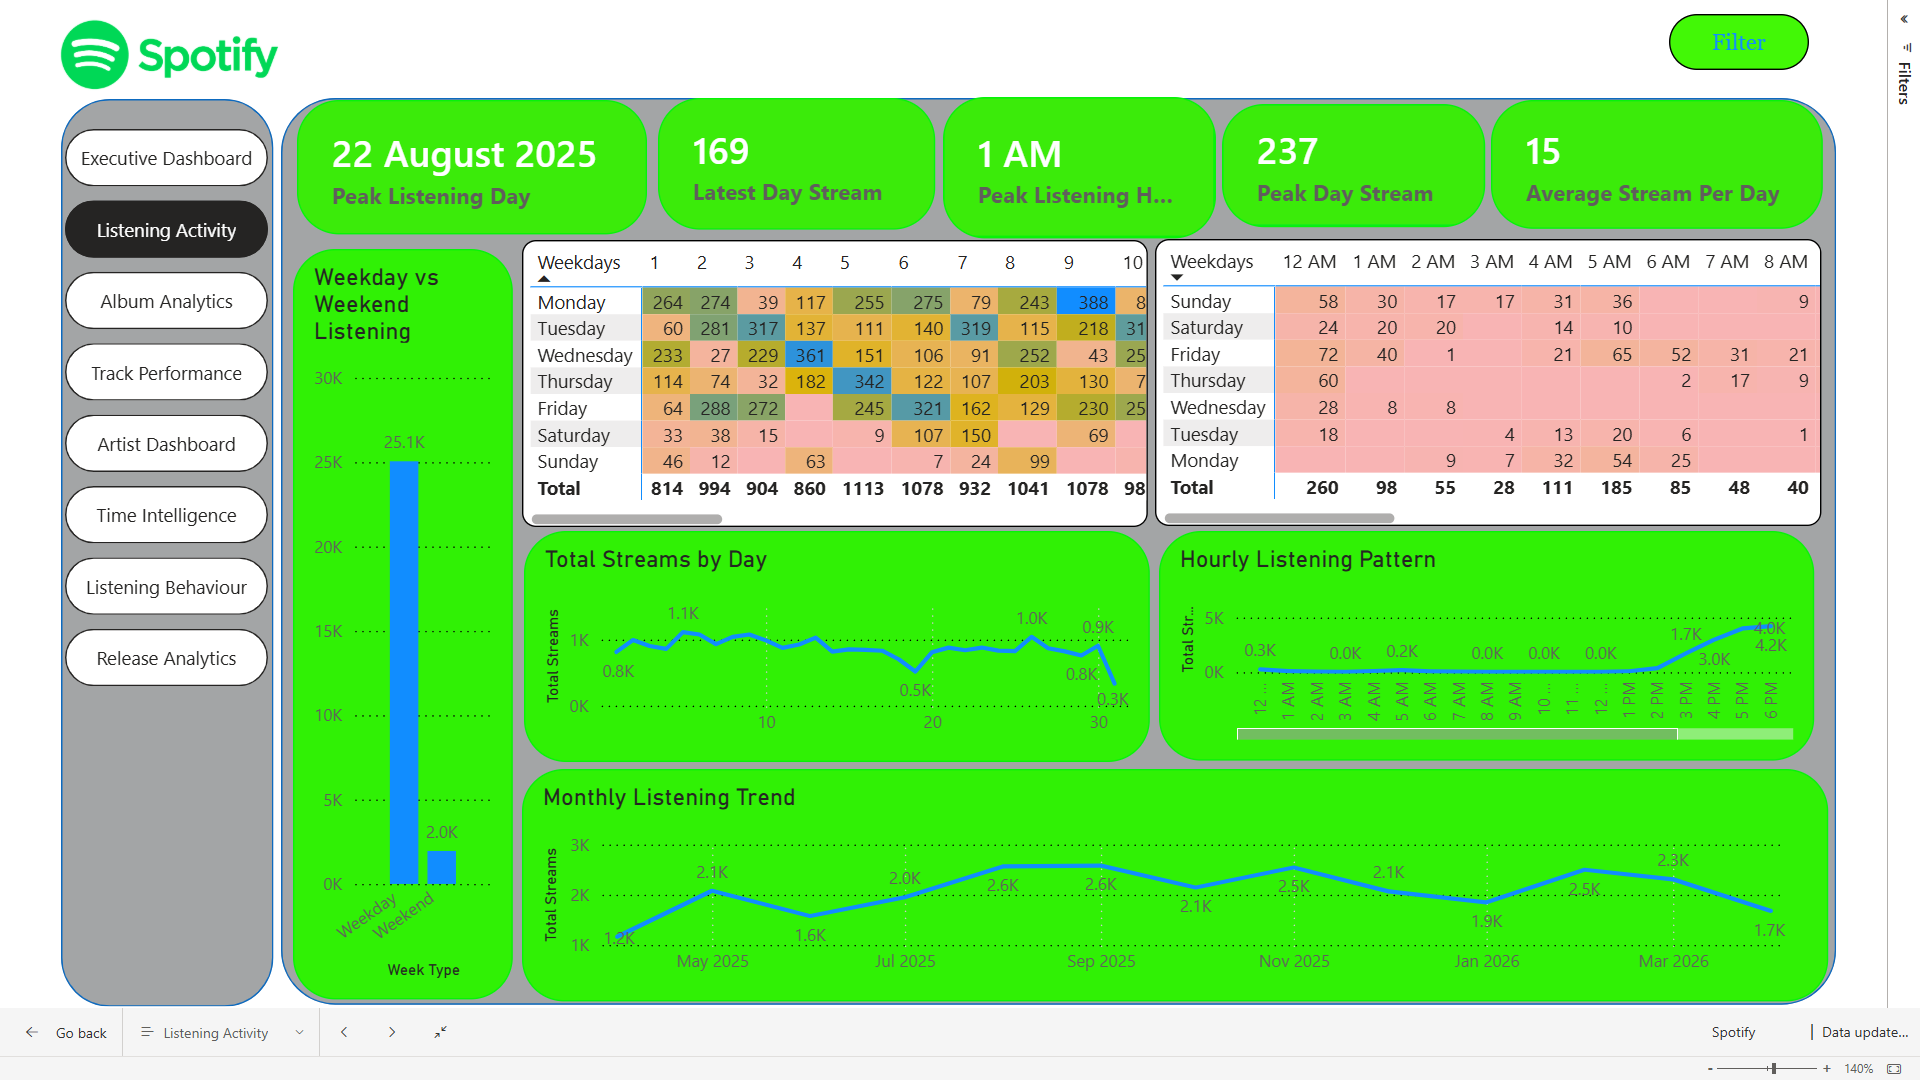

The dashboard page shown, as its layout file describes it:
{"tool":"powerbi","page":{"name":"Listening Activity","canvas":[1280,720],"ordinal":1},"visuals":[{"type":"group","id":"g1","title":"Main","box":[166.6,69,1110.7,648.5],"z":0},{"type":"shape","box":[166.6,69.8,1110.7,647.6],"z":0,"group":"g1"},{"type":"shape","box":[9,70.7,151.7,648.4],"z":0,"group":"g2"},{"type":"image","title":"Brand Name","box":[8.2,3.6,158.2,70.9],"z":1000},{"type":"pageNavigator","box":[11.7,92.2,146,403],"z":1000,"group":"g2"},{"type":"lineChart","fields":{"Category":["spotify_skz_streaming.Date.Variation.Date Hierarchy.Day"],"Y":["Custome Measure.Total Streams"]},"box":[339.8,378.9,446.9,164.8],"z":1000,"group":"g1"},{"type":"lineChart","title":"Monthly Listening Trend","fields":{"Category":["spotify_skz_streaming.Date.Variation.Date Hierarchy.Year","spotify_skz_streaming.Date.Variation.Date Hierarchy.Month"],"Y":["Custome Measure.Total Streams"]},"box":[338.5,548.9,933.1,165.7],"z":2000,"group":"g1"},{"type":"clusteredColumnChart","title":"Weekday vs Weekend Listening","fields":{"Category":["spotify_skz_streaming.Week Type"],"Y":["Custome Measure.Total Streams"]},"box":[175,177.4,156.7,535.5],"z":3000,"group":"g1"},{"type":"actionButton","title":"Filter","box":[1158,9.8,100,40],"z":4000},{"type":"pivotTable","fields":{"Columns":["spotify_skz_streaming.Listening Hour Label"],"Rows":["spotify_skz_streaming.end_day"],"Values":["Custome Measure.Total Streams"]},"box":[791.2,170.3,475.5,205.1],"z":4000,"group":"g1"},{"type":"group","id":"g2","title":"Navigation","box":[9,70.7,151.7,648.4],"z":5000},{"type":"lineChart","title":"Hourly Listening Pattern","fields":{"Category":["spotify_skz_streaming.Listening Hour Label"],"Y":["Custome Measure.Total Streams"]},"box":[793.9,378.9,468.4,163.9],"z":5000,"group":"g1"},{"type":"pivotTable","title":"Daily Listening Activity – Calendar Heatmap","fields":{"Columns":["spotify_skz_counts_day.end_date"],"Rows":["spotify_skz_streaming.Weekdays"],"Values":["Custome Measure.Total Streams"]},"box":[338.9,171.2,446.9,205.1],"z":6000,"group":"g1"},{"type":"cardVisual","fields":{"Data":["Custome Measure.Streams Today"]},"box":[435.6,70,198.2,94.2],"z":7000,"group":"g1"},{"type":"cardVisual","fields":{"Data":["Custome Measure.Peak Listening Day"]},"box":[177.9,71.1,250.2,96.4],"z":8000,"group":"g1"},{"type":"cardVisual","fields":{"Data":["Custome Measure.Peak Day Stream"]},"box":[838.5,74.3,188.4,87.7],"z":9000,"group":"g1"},{"type":"cardVisual","fields":{"Data":["Custome Measure.Average Stream Per Day"]},"box":[1031.2,71.1,237.2,92],"z":10000,"group":"g1"},{"type":"cardVisual","fields":{"Data":["Custome Measure.Peak Listening Hours"]},"box":[639.2,69,194.9,100.7],"z":11000,"group":"g1"}]}

Visuals, with their boxes on the page's 1280x720 design canvas (x1, y1, x2, y2). These are canvas units, not pixel positions in the 1920x1080 screenshot, which may show the page scaled, cropped or inside an application window:
"Main" group: 167:69:1277:718
shape: 167:70:1277:717
shape: 9:71:161:719
"Brand Name" image: 8:4:166:74
pageNavigator: 12:92:158:495
lineChart - spotify_skz_streaming.Date.Variation.Date Hierarchy.Day x Custome Measure.Total Streams: 340:379:787:544
"Monthly Listening Trend" lineChart: 338:549:1272:715
"Weekday vs Weekend Listening" clusteredColumnChart: 175:177:332:713
"Filter" actionButton: 1158:10:1258:50
pivotTable - spotify_skz_streaming.Listening Hour Label x spotify_skz_streaming.end_day: 791:170:1267:375
"Navigation" group: 9:71:161:719
"Hourly Listening Pattern" lineChart: 794:379:1262:543
"Daily Listening Activity – Calendar Heatmap" pivotTable: 339:171:786:376
cardVisual - Custome Measure.Streams Today: 436:70:634:164
cardVisual - Custome Measure.Peak Listening Day: 178:71:428:168
cardVisual - Custome Measure.Peak Day Stream: 838:74:1027:162
cardVisual - Custome Measure.Average Stream Per Day: 1031:71:1268:163
cardVisual - Custome Measure.Peak Listening Hours: 639:69:834:170
